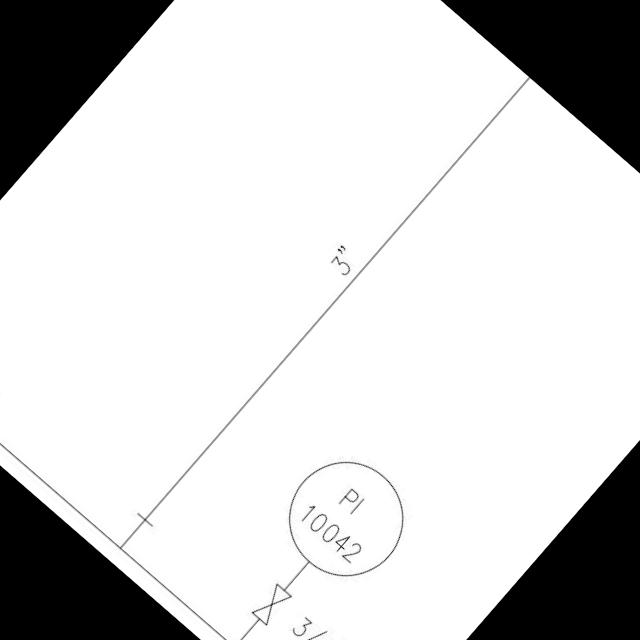GV: (248, 578, 298, 630)
